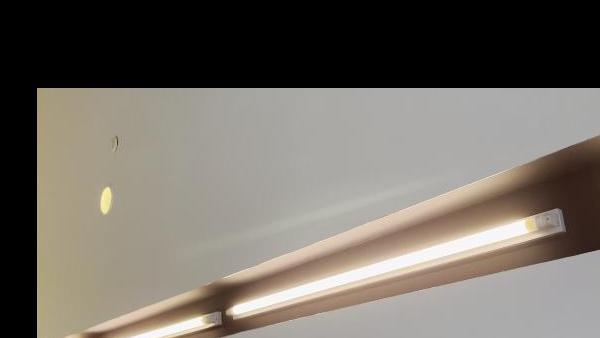light_on: (225, 201, 570, 337), (83, 284, 223, 338), (597, 176, 600, 228)
